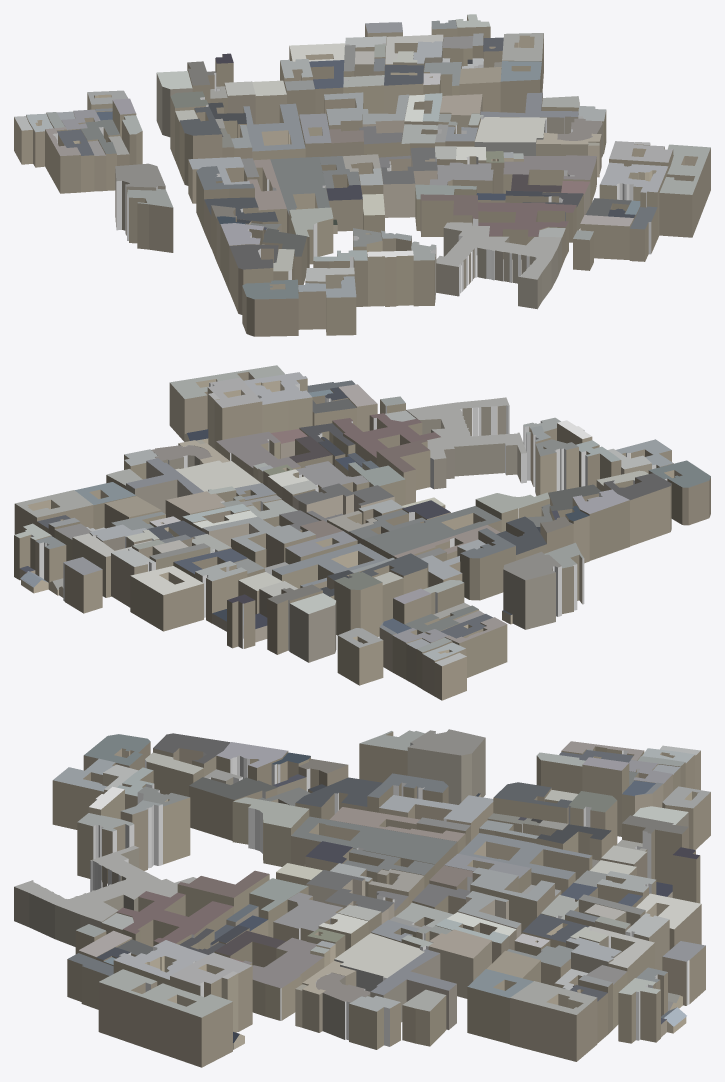
The picture shows the model from 3 angles, top to bottom: view 1: azimuth 30°, elevation 25°; view 2: azimuth 150°, elevation 25°; view 3: azimuth 270°, elevation 25°; orthographic projection. The views are drawn at different scales.
Parts seen in each view (by area): view 1: tuile; view 2: tuile; view 3: tuile.
Part boxes in pixels (<box>): tuile: <box>14,14,710,336</box>; tuile: <box>14,365,710,700</box>; tuile: <box>14,729,710,1067</box>.
Size of the model in its own units: 279 by 31.03 by 288.
